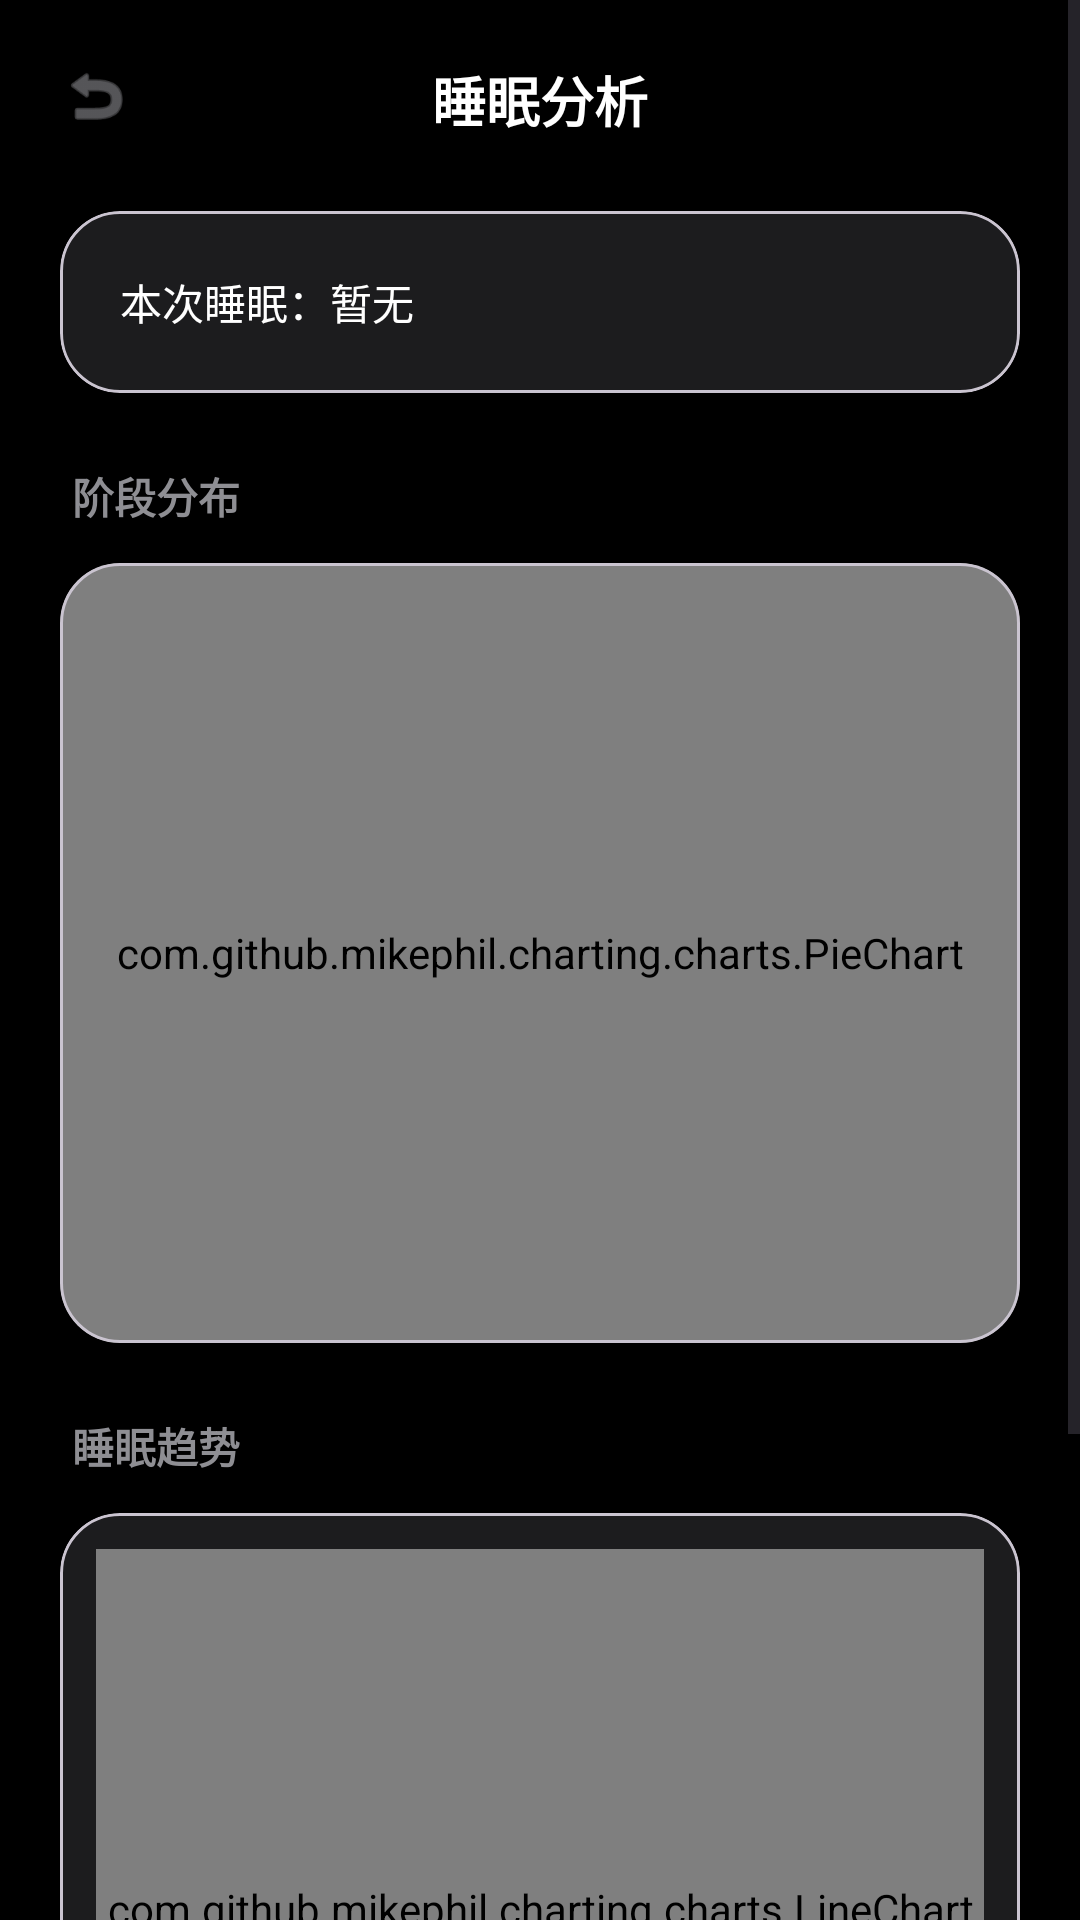

Named icons in this screenshot (1080 × 1920) and their centers, (x,y):
revert: (97,96)
